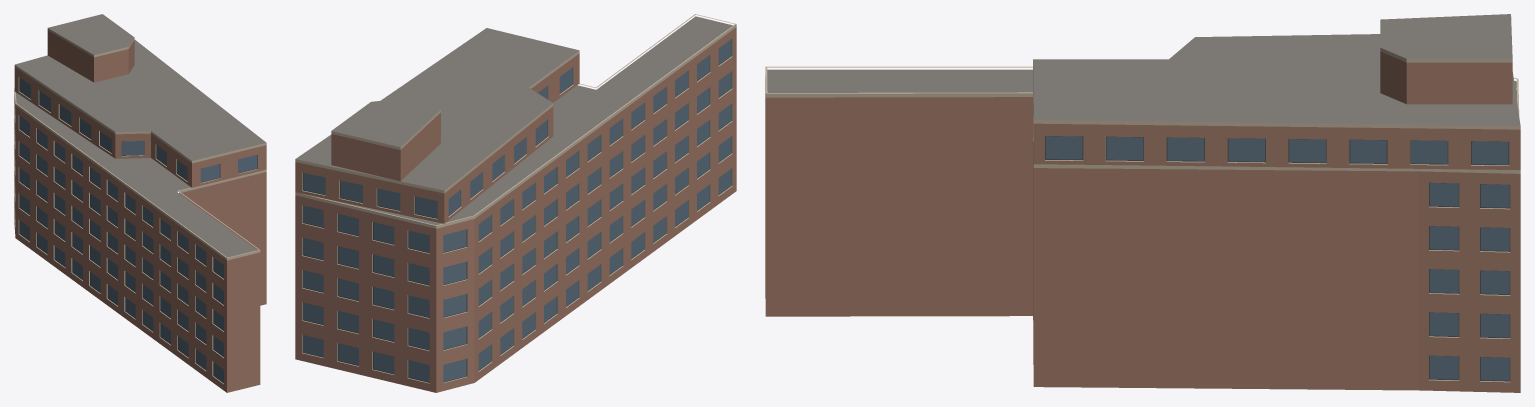
Rendered from dc-au-butler-pavilion.detail.glb.
3 renders of one model, left to right at view 1: azimuth 30°, elevation 25°; view 2: azimuth 150°, elevation 25°; view 3: azimuth 270°, elevation 25°, orthographic. The views are drawn at different scales.
Visible parts, largest first — view 1: Butler Pavilion; view 2: Butler Pavilion; view 3: Butler Pavilion.
Boxes of the visible parts, <box> form: Butler Pavilion: <box>14,14,266,392</box>; Butler Pavilion: <box>295,14,736,392</box>; Butler Pavilion: <box>765,14,1520,392</box>.
Bounding box in the file's own units: 18.51 × 26.1 × 57.12.
